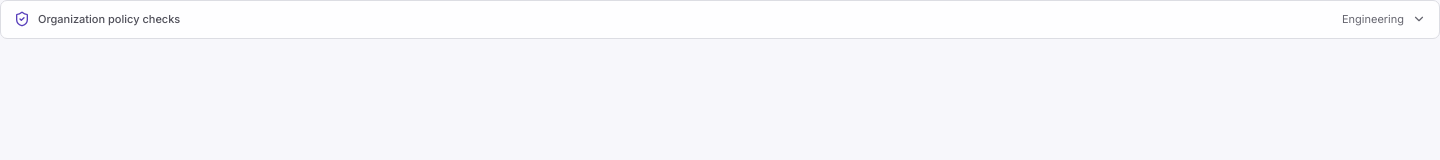
PolicyNotice › keeps normal policy context compact and discloses its real explanation
Expected: the text "Engineering" is shown, [1342,11,1404,28]
What coordinates should you click on to do the following:
click the heading "Organization policy checks Engineering"
I would click on:
 (109, 19)
Its box is [14,11,1426,27].
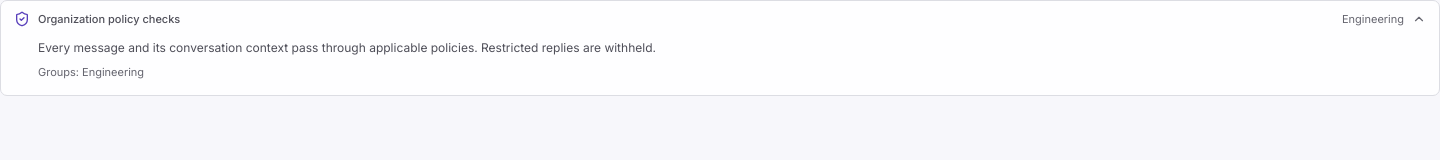
Now the text "Every message and its conversation context" is shown, box [38,40,656,54]
